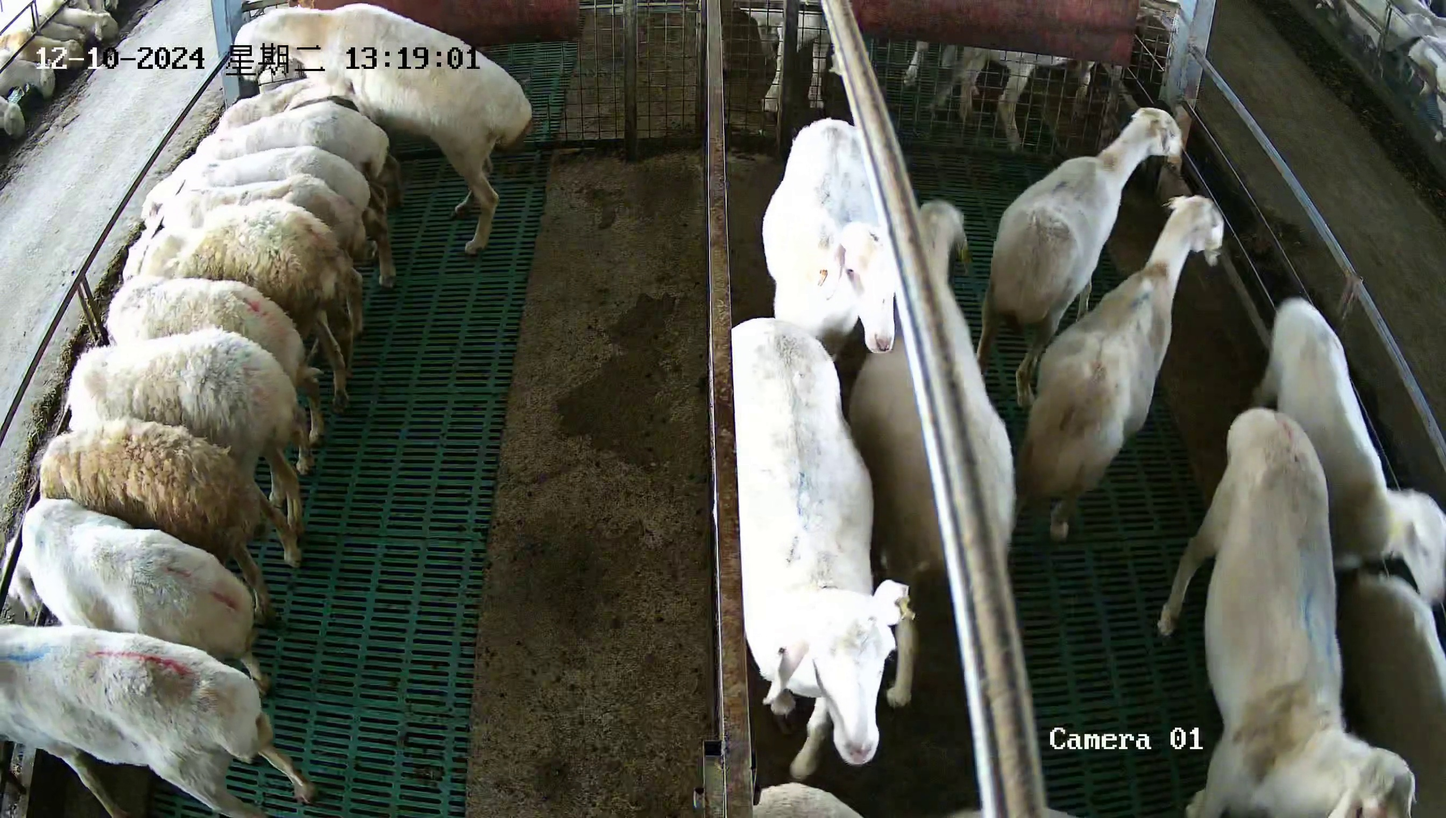Nmounting: (225, 4, 530, 254)
